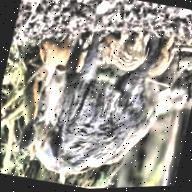boar: (11, 4, 188, 192)
